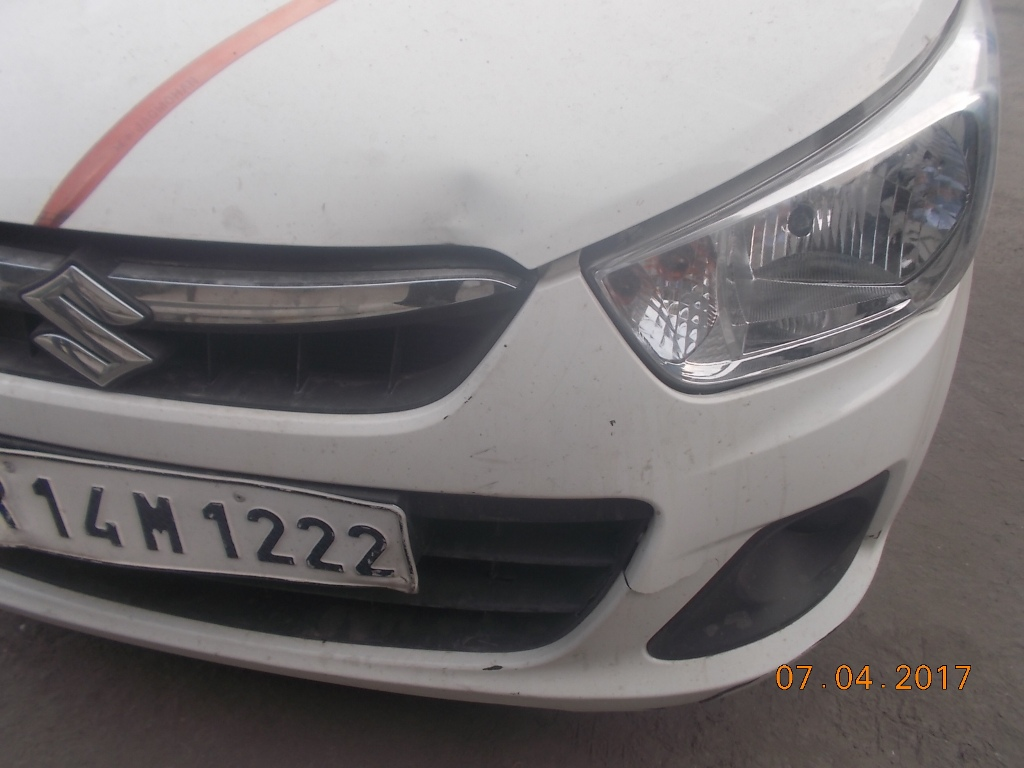Tear: (618, 557, 675, 611)
